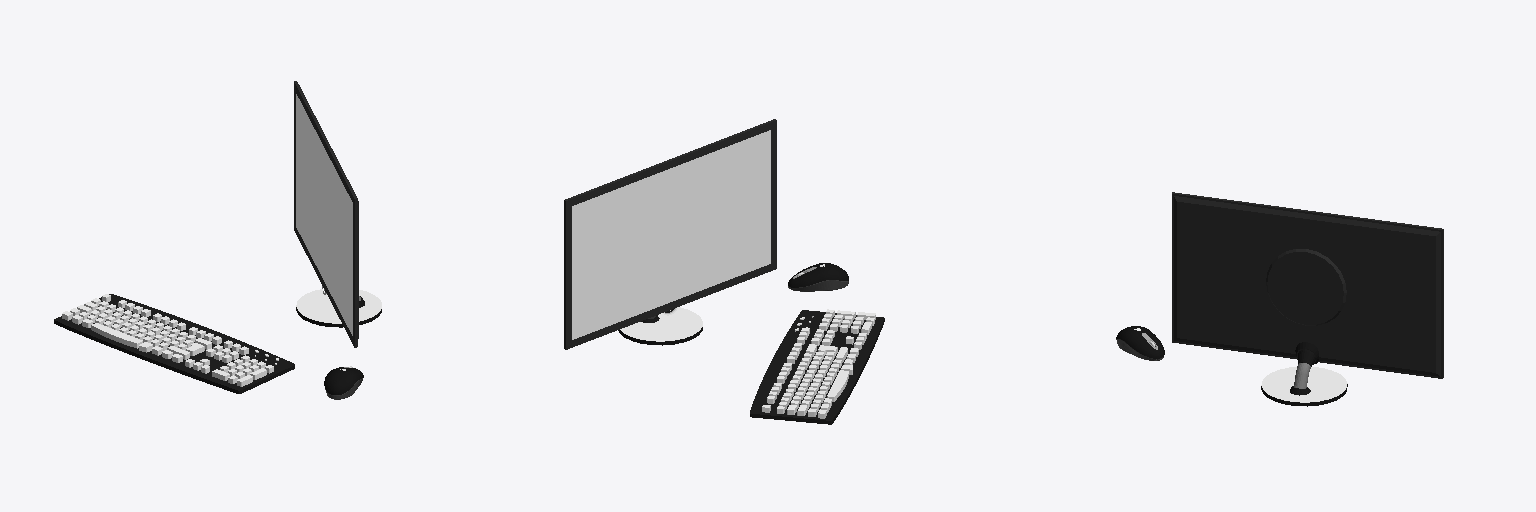
3 renders of one model, left to right at view 1: azimuth 30°, elevation 25°; view 2: azimuth 150°, elevation 25°; view 3: azimuth 270°, elevation 25°, orthographic.
Visible parts, largest first — view 1: Samsung_PX2370_LED_001, Keyboard_Top_USA_1_001, Group_001, Keyboard_Bottom_1_001; view 2: Samsung_PX2370_LED_001, Keyboard_Top_USA_1_001, Group_001; view 3: Samsung_PX2370_LED_001, Group_001.
Boxes of the visible parts, <box> form: Samsung_PX2370_LED_001: <box>294,81,381,347</box>; Keyboard_Top_USA_1_001: <box>54,294,294,390</box>; Group_001: <box>324,366,363,399</box>; Keyboard_Bottom_1_001: <box>54,320,294,393</box>; Samsung_PX2370_LED_001: <box>564,119,776,349</box>; Keyboard_Top_USA_1_001: <box>750,309,884,420</box>; Group_001: <box>788,263,848,291</box>; Samsung_PX2370_LED_001: <box>1172,192,1443,406</box>; Group_001: <box>1116,326,1164,360</box>.
Size of the model in its own units: 21.79 by 13.43 by 23.27.